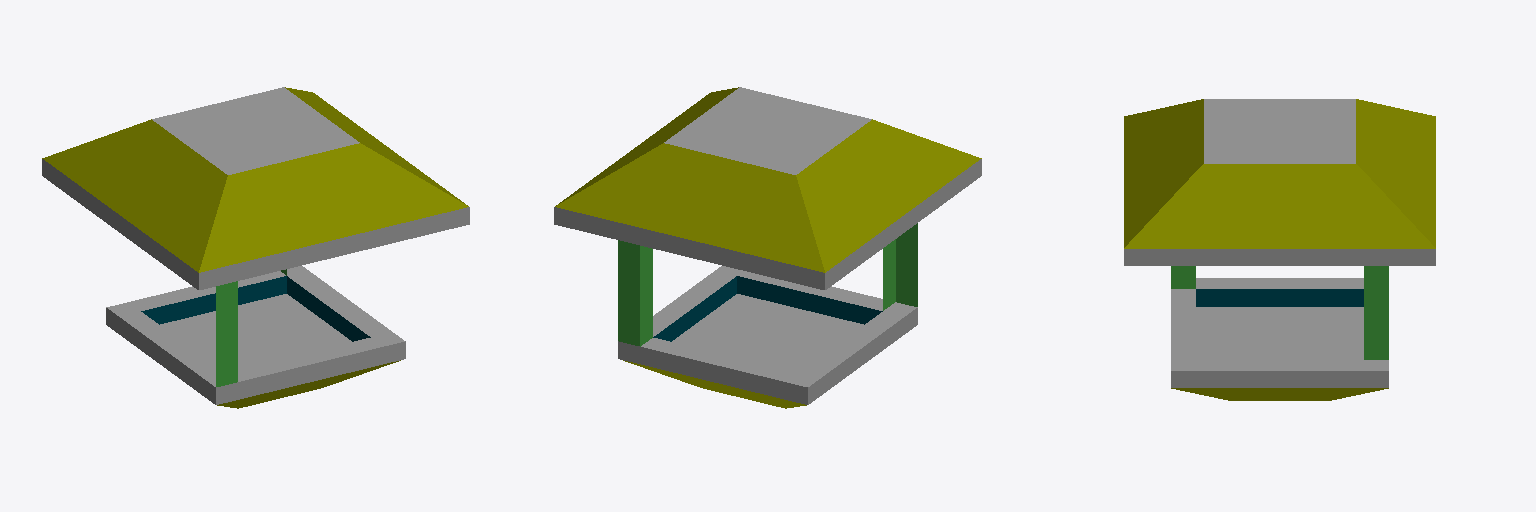
File: float03.obj
3 views of the same model, side by side, from view 1: azimuth 30°, elevation 25°; view 2: azimuth 150°, elevation 25°; view 3: azimuth 270°, elevation 25° (orthographic).
Visible parts, largest first — view 1: Cube.006_Cube.005; view 2: Cube.006_Cube.005; view 3: Cube.006_Cube.005.
Boxes of the visible parts, x1=… form: Cube.006_Cube.005: x1=42, y1=87, x2=469, y2=408; Cube.006_Cube.005: x1=554, y1=87, x2=981, y2=408; Cube.006_Cube.005: x1=1124, y1=99, x2=1435, y2=400.
Bounding box in the file's own units: 160 × 141 × 160.